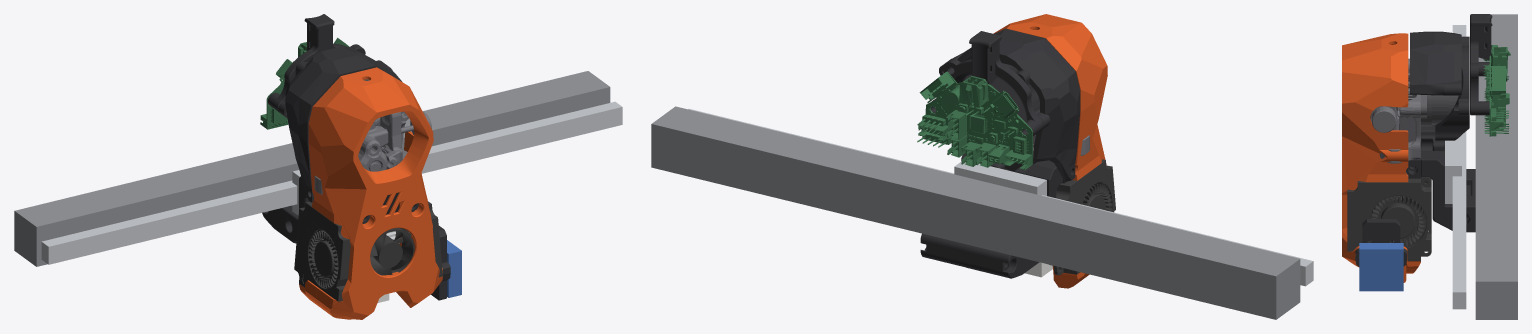
The model's file is toolhead.glb.
3 renders of one model, left to right at view 1: azimuth 30°, elevation 25°; view 2: azimuth 150°, elevation 25°; view 3: azimuth 270°, elevation 25°, orthographic. The views are drawn at different scales.
Parts seen in each view (by area): view 1: shroud, extrusion, mgn_rail, door, blowers, sherpa, mount, hotendfan, xL, ebb36, eddy_coil, eddy; view 2: extrusion, ebb36, door, shroud, mount, xL, blowers, mgn_block, mgn_rail, xR, bridge, motor; view 3: extrusion, shroud, blowers, door, mgn_rail, eddy_coil, ebb36, sherpa, xR, mount, bridge, eddy (+4 smaller).
Part boxes in pixels (x1,y1,x2,y2): shroud: (299, 67, 442, 319); extrusion: (14, 71, 610, 266); mgn_rail: (41, 101, 622, 264); door: (285, 47, 401, 202); blowers: (294, 201, 442, 301); sherpa: (314, 111, 431, 194); mount: (267, 14, 365, 112); hotendfan: (370, 228, 414, 275); xL: (262, 176, 309, 243); ebb36: (260, 37, 349, 129); eddy_coil: (447, 240, 461, 297); eddy: (431, 225, 450, 300); extrusion: (651, 106, 1300, 319); ebb36: (917, 71, 1032, 170); door: (939, 28, 1080, 181); shroud: (993, 14, 1107, 288); mount: (930, 31, 1043, 135); xL: (964, 160, 1062, 278); blowers: (1049, 159, 1115, 275); mgn_block: (954, 161, 1046, 195); mgn_rail: (688, 109, 1313, 286); xR: (920, 154, 1010, 267); bridge: (959, 63, 1050, 129); motor: (963, 74, 1026, 121); extrusion: (1475, 14, 1517, 319); shroud: (1342, 33, 1420, 282); blowers: (1347, 177, 1431, 261); door: (1410, 31, 1461, 95); mgn_rail: (1452, 25, 1466, 309); eddy_coil: (1359, 243, 1403, 291); ebb36: (1483, 45, 1510, 136); sherpa: (1370, 58, 1420, 163); xR: (1421, 151, 1475, 232); mount: (1470, 14, 1492, 115); bridge: (1435, 36, 1469, 140); eddy: (1355, 219, 1407, 266).
Size of the model in its own units: 300 by 126 by 83.38.
